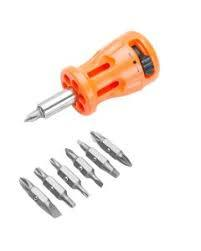screwdriver: (37, 28, 160, 120), (34, 194, 61, 217), (81, 163, 104, 188), (95, 156, 120, 178), (112, 146, 136, 167), (89, 128, 110, 148), (31, 164, 52, 184), (22, 105, 46, 122), (18, 176, 37, 197), (72, 180, 90, 197), (63, 145, 78, 163), (75, 136, 90, 154), (48, 156, 64, 170)
